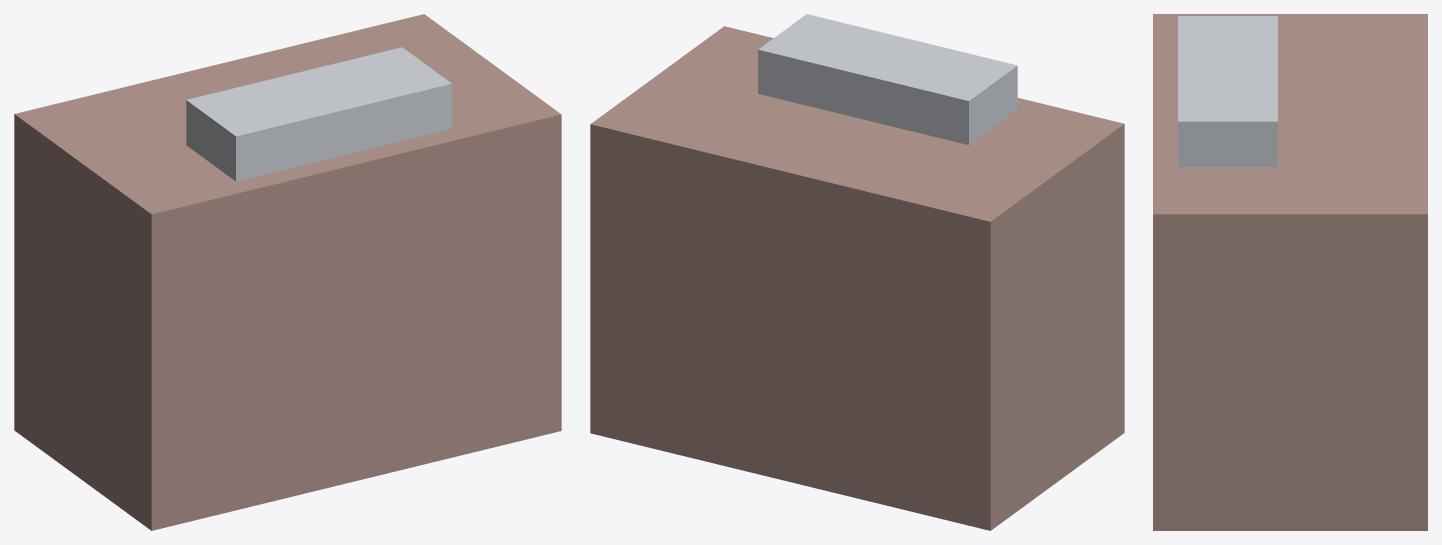
Rendered from prop.glb.
3 views of the same model, side by side, from view 1: azimuth 30°, elevation 25°; view 2: azimuth 150°, elevation 25°; view 3: azimuth 270°, elevation 25° (orthographic). The views are drawn at different scales.
Visible parts, largest first — view 1: Cloth, Metal; view 2: Cloth, Metal; view 3: Cloth, Metal.
Part boxes in pixels (x1,y1,x2,y2): Cloth: (14,14,561,530); Metal: (186,47,451,181); Cloth: (590,26,1124,530); Metal: (758,14,1017,144); Cloth: (1153,14,1427,530); Metal: (1178,16,1277,166).
Size of the model in its own units: 0.3794 by 0.32 by 0.22.
